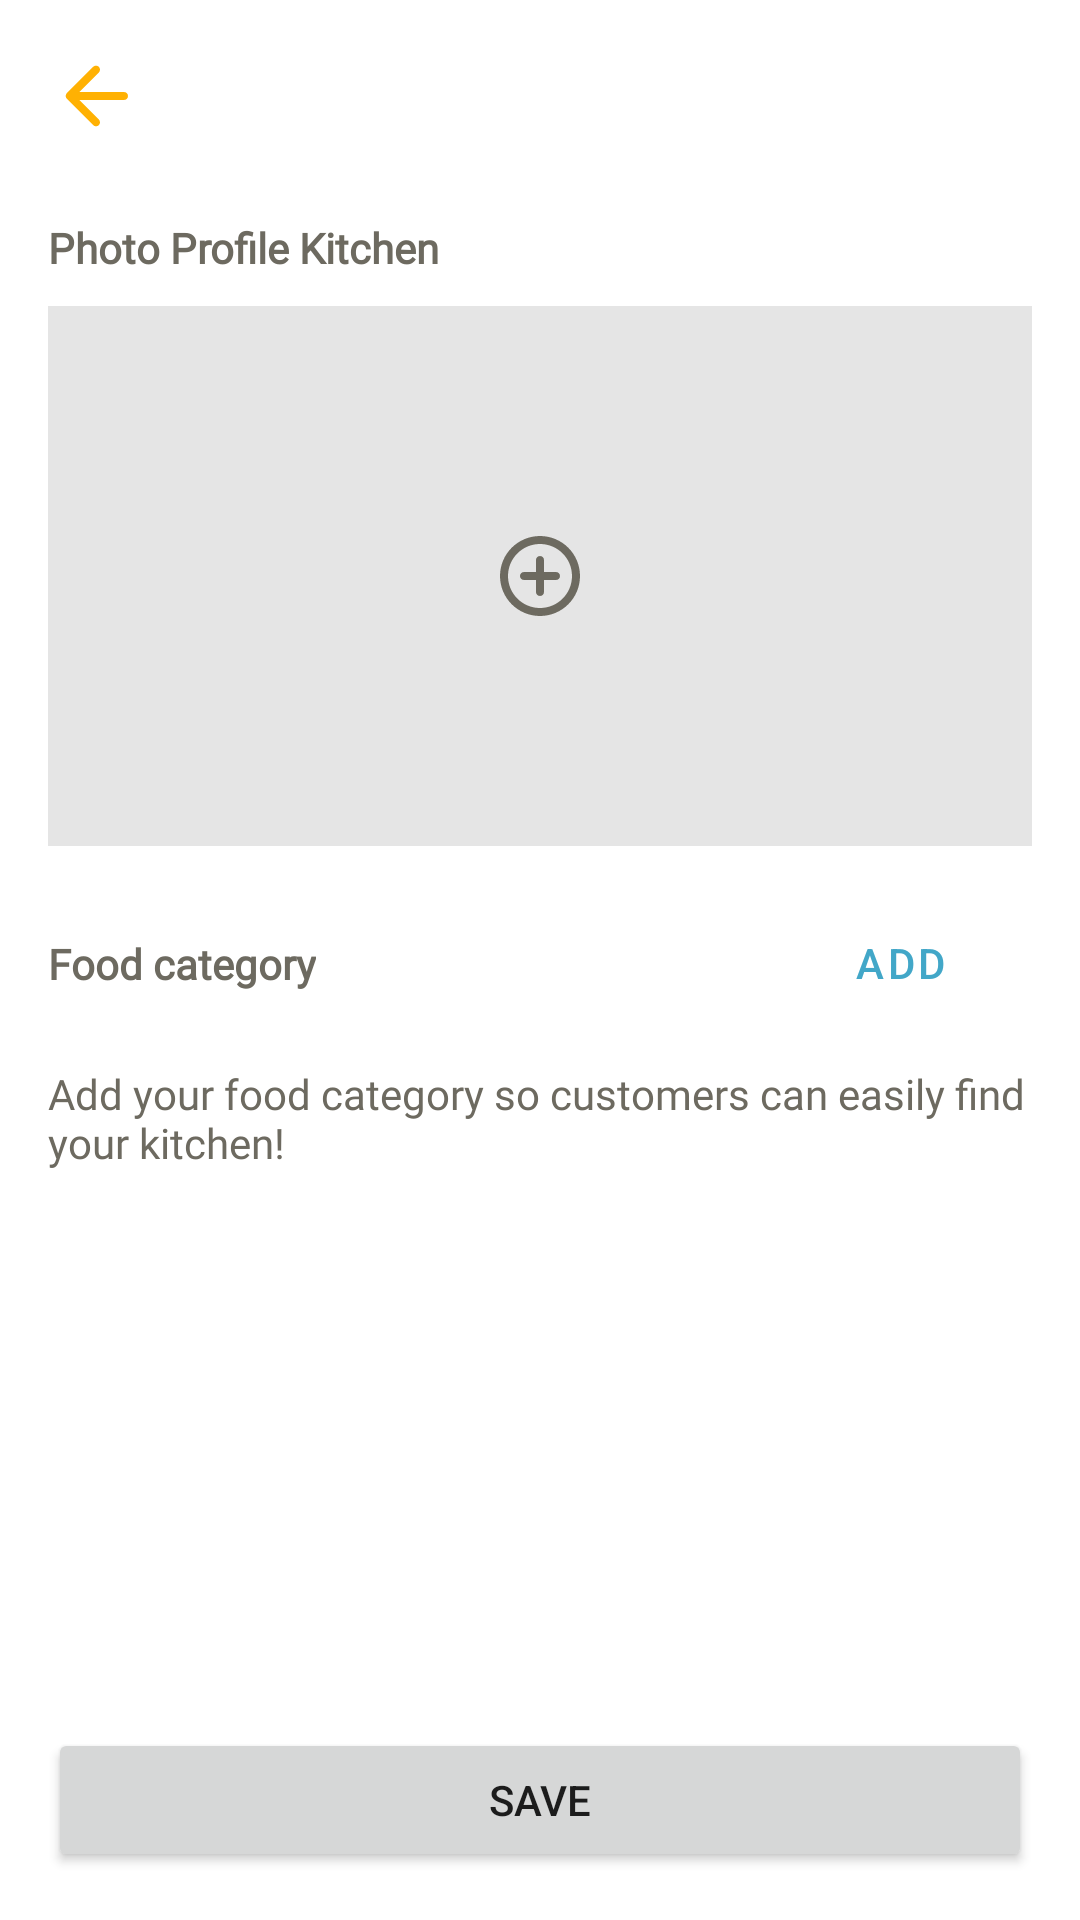

Where icons sit on this 1080 x 1920 app screen, as {"x1": x1, "y1": y1, "x2": x2, "y2": y2}:
back: {"x1": 65, "y1": 65, "x2": 128, "y2": 127}
